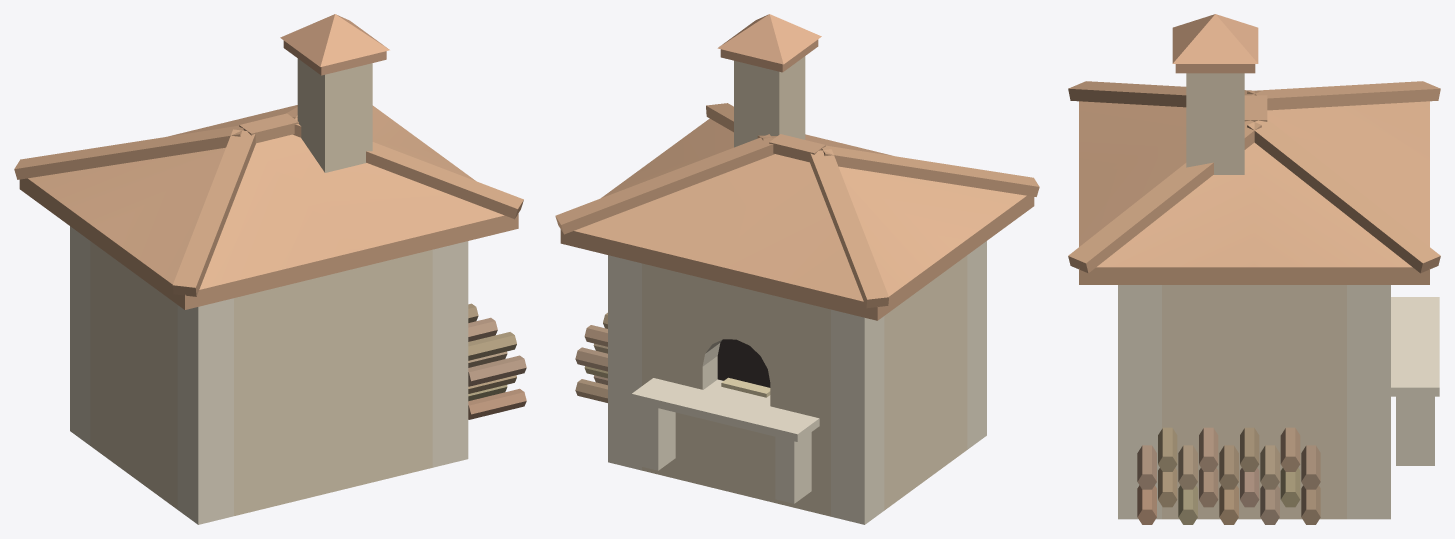
Rendered from SM_BM_BH_Forno.glb.
3 renders of one model, left to right at view 1: azimuth 30°, elevation 25°; view 2: azimuth 150°, elevation 25°; view 3: azimuth 270°, elevation 25°, orthographic. The views are drawn at different scales.
Parts seen in each view (by area): view 1: SM_BM_BH_Forno; view 2: SM_BM_BH_Forno; view 3: SM_BM_BH_Forno.
Part boxes in pixels (bbox=[...]): SM_BM_BH_Forno: bbox=[14, 14, 526, 524]; SM_BM_BH_Forno: bbox=[555, 14, 1039, 524]; SM_BM_BH_Forno: bbox=[1068, 14, 1440, 524].
Bounding box in the file's own units: 4.76 × 5.21 × 3.82.
